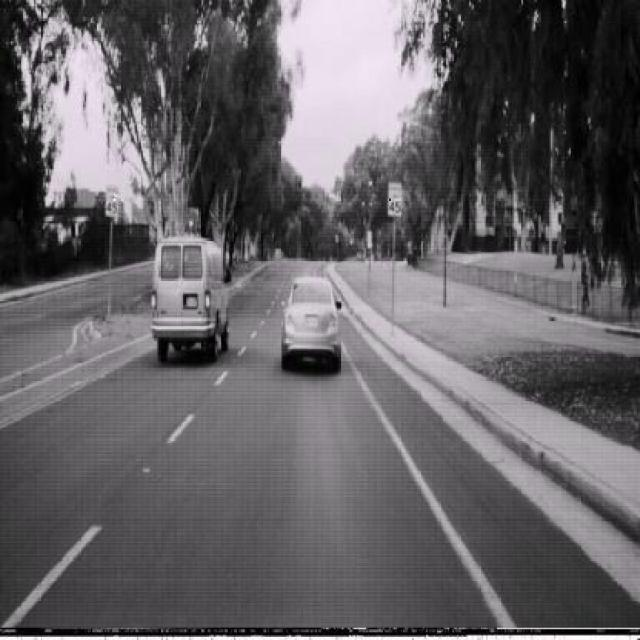speedLimit45: (388, 180, 402, 217), (105, 181, 118, 217)
